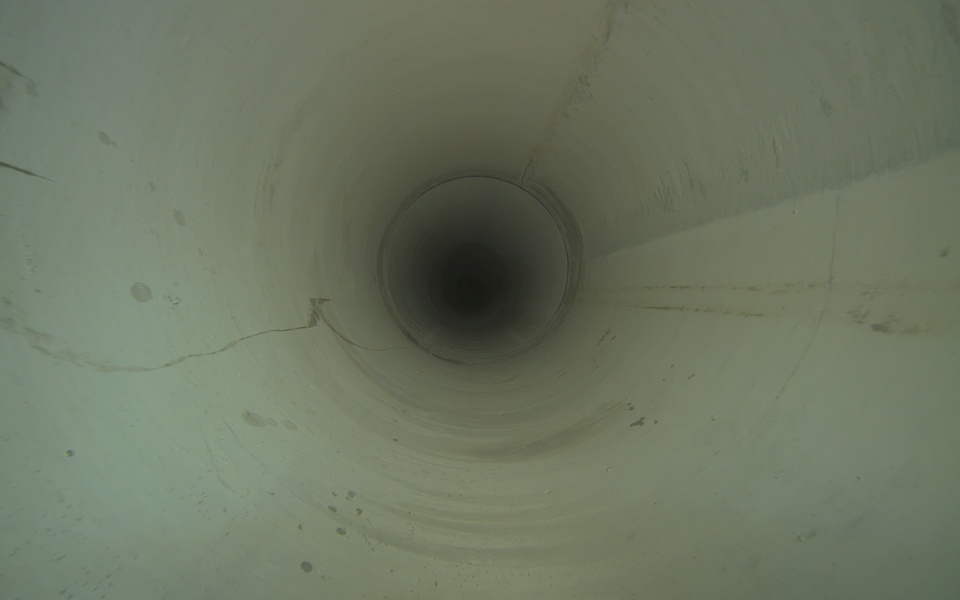circle1: (376, 169, 578, 371)
circle2: (448, 262, 491, 305)
